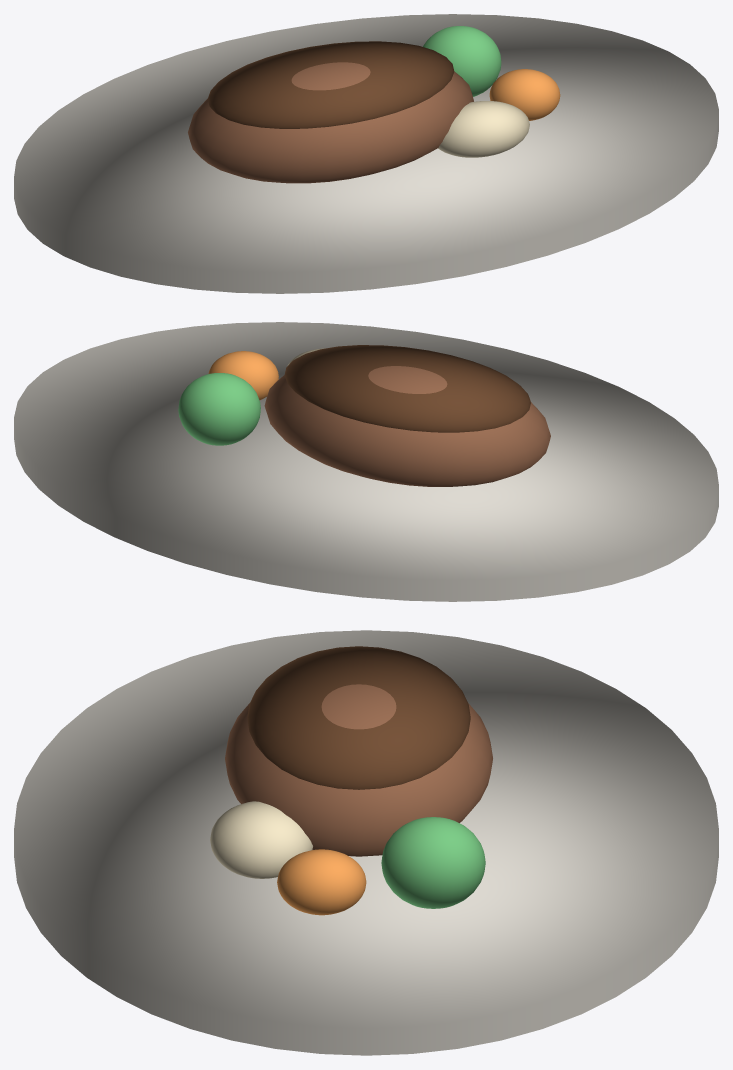
File: facility_breakfast.glb
The picture shows the model from 3 angles, top to bottom: view 1: azimuth 30°, elevation 25°; view 2: azimuth 150°, elevation 25°; view 3: azimuth 270°, elevation 25°; orthographic projection. The views are drawn at different scales.
Size of the model in its own units: 2.53 by 0.38 by 1.89.
